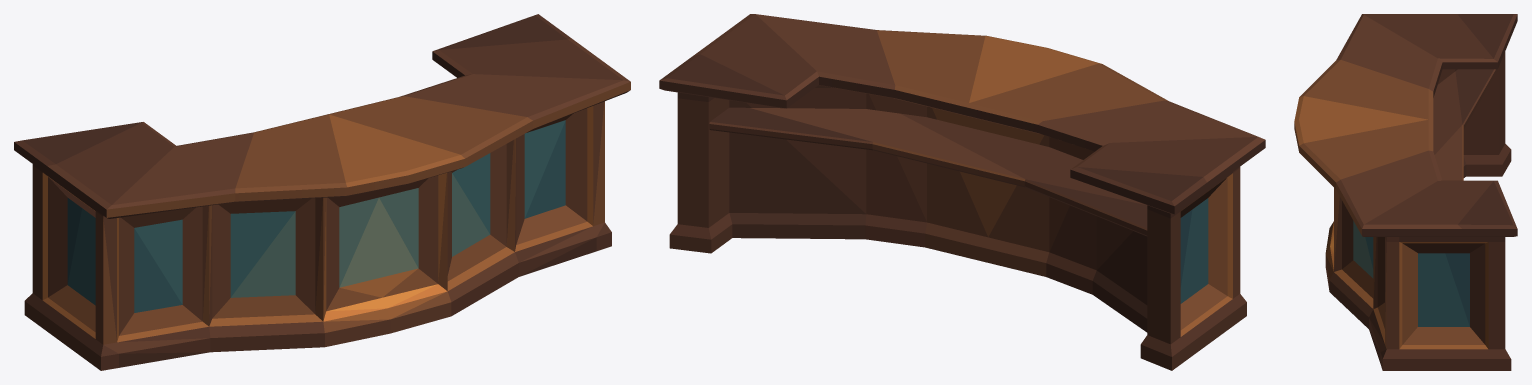
Rendered from bar_desk_downstairs.fbx.
3 renders of one model, left to right at view 1: azimuth 30°, elevation 25°; view 2: azimuth 150°, elevation 25°; view 3: azimuth 270°, elevation 25°, orthographic. The views are drawn at different scales.
Parts seen in each view (by area): view 1: bar_desk_downstairs; view 2: bar_desk_downstairs; view 3: bar_desk_downstairs.
Boxes of the visible parts, x1,y1,x2,y2 form: bar_desk_downstairs: [14, 14, 630, 370]; bar_desk_downstairs: [659, 14, 1265, 370]; bar_desk_downstairs: [1294, 14, 1517, 370].
Size of the model in its own units: 314 by 99.58 by 138.
